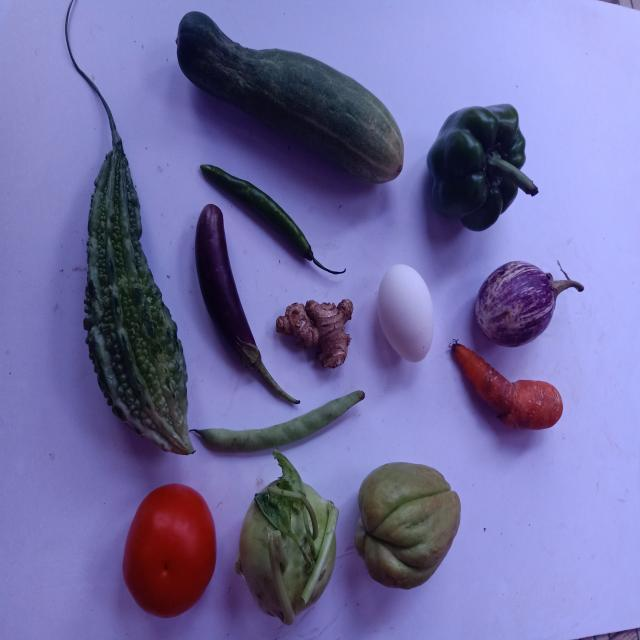Beans: (190, 391, 365, 452)
Bitter Gourd: (65, 15, 193, 455)
Brinjal: (195, 204, 300, 404)
Capsicum: (427, 103, 539, 230)
Carrot: (453, 343, 564, 430)
Chayote: (356, 463, 461, 590)
Cucumber: (176, 10, 404, 182)
Egg: (378, 264, 434, 362)
Eggplant: (476, 261, 585, 347)
Ginger: (276, 299, 353, 367)
Green Chilly: (200, 164, 345, 273)
Tomato: (122, 484, 216, 618)
Turnip: (235, 451, 339, 625)
